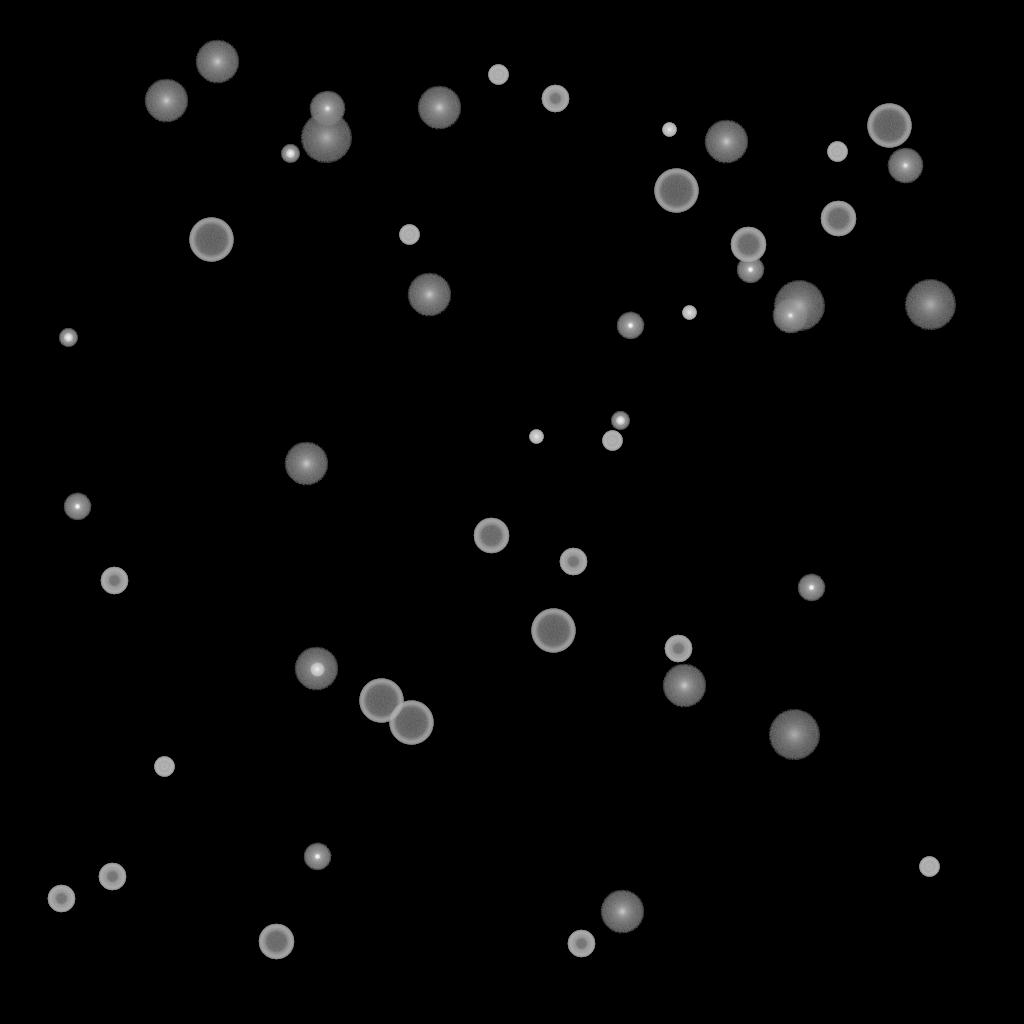depth:-10: (736, 256, 764, 284), (63, 493, 91, 521), (797, 574, 825, 602), (616, 312, 644, 340), (303, 843, 331, 871)
depth:-20: (59, 329, 77, 347), (281, 145, 299, 163), (611, 412, 629, 430)
depth:-30: (662, 123, 676, 137), (529, 430, 543, 444), (310, 663, 324, 677), (682, 306, 696, 320)
depth:-40: (919, 857, 939, 877), (154, 757, 174, 777), (602, 431, 622, 451), (827, 142, 847, 162), (488, 65, 508, 85), (399, 225, 419, 245)
depth:-50: (567, 930, 595, 958), (664, 635, 692, 663), (100, 567, 128, 595), (559, 548, 587, 576), (98, 863, 126, 891), (47, 885, 75, 913), (541, 85, 569, 113)
depth:-60: (473, 518, 509, 554), (258, 924, 294, 960), (820, 201, 856, 237), (730, 227, 766, 263)
depth:-70: (189, 218, 233, 262), (867, 104, 911, 148), (654, 169, 698, 213), (389, 701, 433, 745), (359, 679, 403, 723), (531, 609, 575, 653)
depth:0: (887, 148, 923, 184), (772, 298, 808, 334), (309, 91, 345, 127)
depth:10: (704, 120, 748, 164), (600, 890, 644, 934), (284, 442, 328, 486), (662, 664, 706, 708), (417, 86, 461, 130), (294, 647, 338, 691), (407, 273, 451, 317), (195, 40, 239, 84), (144, 79, 188, 123)
depth:20: (768, 710, 820, 760), (773, 281, 825, 331), (300, 113, 352, 163), (904, 280, 956, 330)
